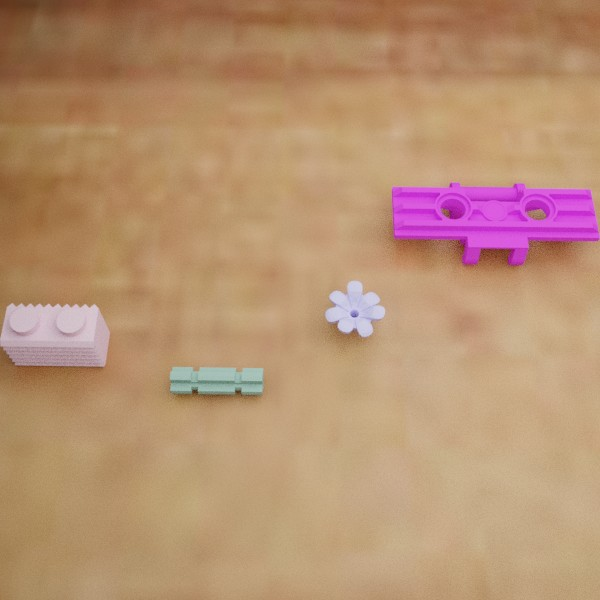lego: (391, 182, 600, 265), (0, 303, 109, 366), (325, 280, 385, 337), (169, 366, 263, 395)
